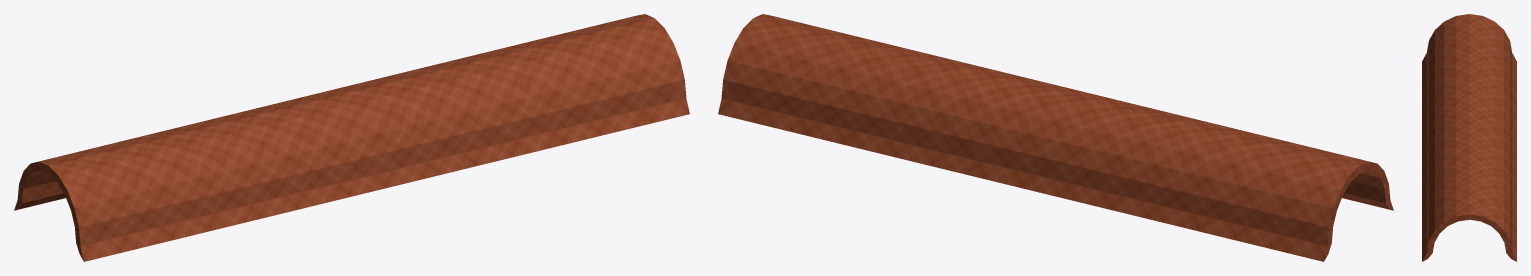
Rendered from MRP_Ridge_2m.fbx.
3 renders of one model, left to right at view 1: azimuth 30°, elevation 25°; view 2: azimuth 150°, elevation 25°; view 3: azimuth 270°, elevation 25°, orthographic. The views are drawn at different scales.
Parts seen in each view (by area): view 1: Body; view 2: Body; view 3: Body.
Boxes of the visible parts, box(x1,y1,x2,y2) form: Body: box(14, 14, 689, 261); Body: box(718, 14, 1393, 261); Body: box(1422, 14, 1516, 261).
Bounding box in the file's own units: 2 × 0.2215 × 0.4.
